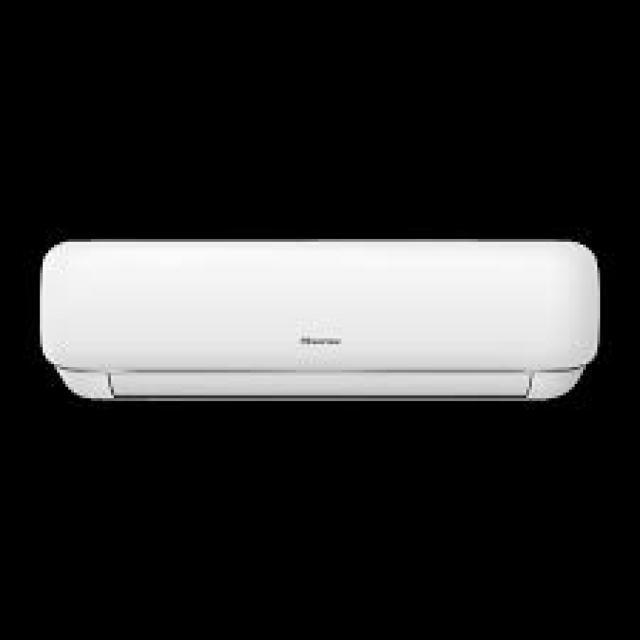ac: (42, 238, 598, 420)
